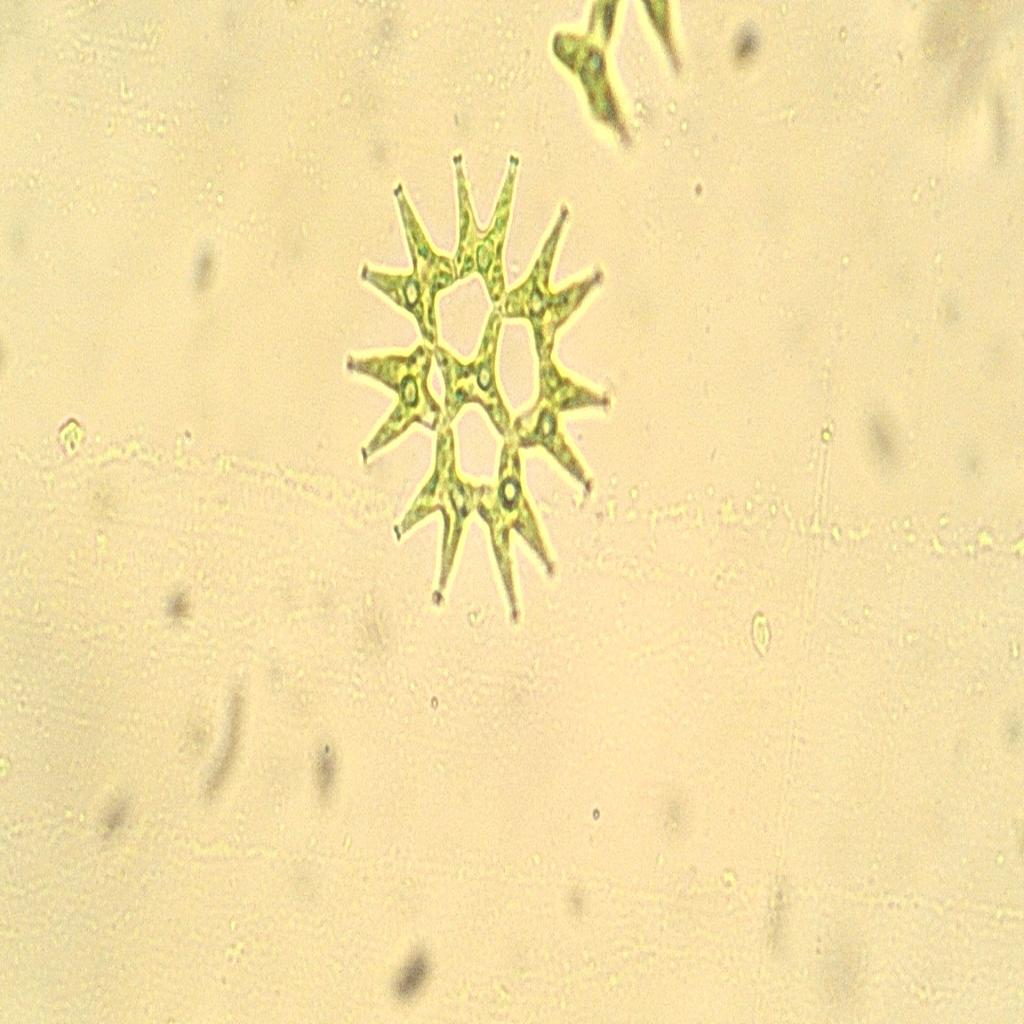Pediastrum_CTH: (340, 143, 616, 634)
